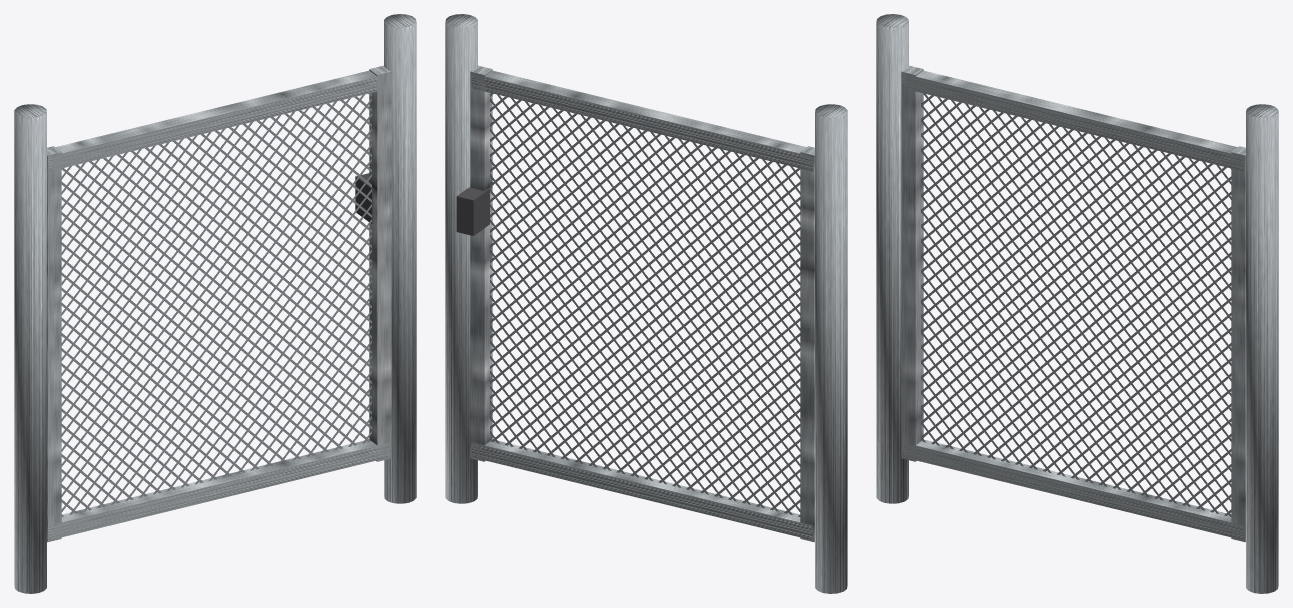
The model's file is WK_WALL_ChainlinkGate.glb.
3 views of the same model, side by side, from view 1: azimuth 30°, elevation 25°; view 2: azimuth 150°, elevation 25°; view 3: azimuth 330°, elevation 25° (orthographic).
Visible parts, largest first — view 1: WK_WALL_ChainlinkGate_P07, WK_WALL_ChainlinkGate_P01, WK_WALL_ChainlinkGate_P02, WK_WALL_ChainlinkGate_P06, WK_WALL_ChainlinkGate_P03, WK_WALL_ChainlinkGate_P04, WK_WALL_ChainlinkGate_P05, WK_WALL_ChainlinkGate_P08; view 2: WK_WALL_ChainlinkGate_P07, WK_WALL_ChainlinkGate_P01, WK_WALL_ChainlinkGate_P02, WK_WALL_ChainlinkGate_P03, WK_WALL_ChainlinkGate_P04, WK_WALL_ChainlinkGate_P06, WK_WALL_ChainlinkGate_P05, WK_WALL_ChainlinkGate_P08; view 3: WK_WALL_ChainlinkGate_P07, WK_WALL_ChainlinkGate_P02, WK_WALL_ChainlinkGate_P01, WK_WALL_ChainlinkGate_P05, WK_WALL_ChainlinkGate_P03, WK_WALL_ChainlinkGate_P04, WK_WALL_ChainlinkGate_P06.
Part boxes in pixels (x1,y1,x2,y2): WK_WALL_ChainlinkGate_P07: (61,93,371,516); WK_WALL_ChainlinkGate_P01: (14,104,46,593); WK_WALL_ChainlinkGate_P02: (384,14,416,503); WK_WALL_ChainlinkGate_P06: (369,65,391,461); WK_WALL_ChainlinkGate_P03: (49,70,377,171); WK_WALL_ChainlinkGate_P04: (49,440,390,540); WK_WALL_ChainlinkGate_P05: (47,146,61,542); WK_WALL_ChainlinkGate_P08: (355,173,373,223); WK_WALL_ChainlinkGate_P07: (490,93,800,516); WK_WALL_ChainlinkGate_P01: (815,104,847,593); WK_WALL_ChainlinkGate_P02: (445,14,477,503); WK_WALL_ChainlinkGate_P03: (471,70,812,171); WK_WALL_ChainlinkGate_P04: (471,440,812,539); WK_WALL_ChainlinkGate_P06: (470,65,492,461); WK_WALL_ChainlinkGate_P05: (800,146,814,542); WK_WALL_ChainlinkGate_P08: (456,187,489,235); WK_WALL_ChainlinkGate_P07: (921,93,1231,516); WK_WALL_ChainlinkGate_P02: (1246,104,1278,593); WK_WALL_ChainlinkGate_P01: (876,14,908,503); WK_WALL_ChainlinkGate_P05: (901,65,923,461); WK_WALL_ChainlinkGate_P03: (902,70,1243,171); WK_WALL_ChainlinkGate_P04: (902,439,1243,539); WK_WALL_ChainlinkGate_P06: (1231,146,1245,542).
Size of the model in its own units: 1.4 by 1.6 by 0.15.
Materials: 3 (2 with a texture image).
